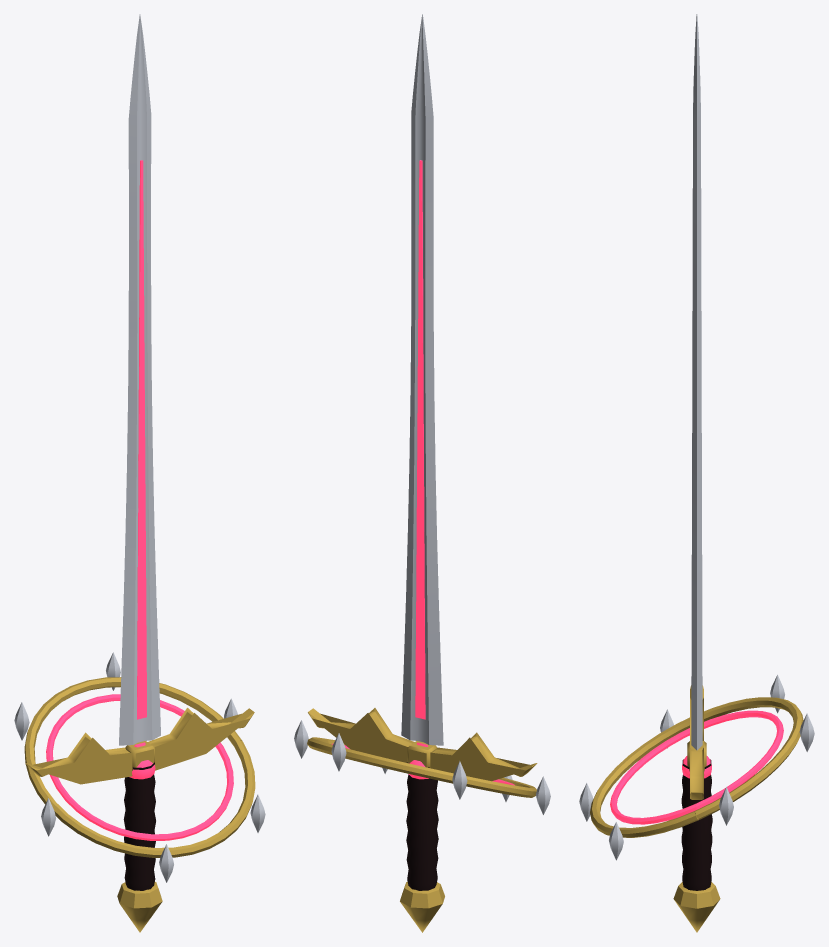
The model's file is esc_w_knight_sword_1.glb.
The picture shows the model from 3 angles, left to right: view 1: azimuth 30°, elevation 25°; view 2: azimuth 150°, elevation 25°; view 3: azimuth 270°, elevation 25°; orthographic projection.
Parts seen in each view (by area): view 1: esc_w_knight_sword_1; view 2: esc_w_knight_sword_1; view 3: esc_w_knight_sword_1.
Part boxes in pixels (box(x1,y1,x2,y2)): esc_w_knight_sword_1: box(14, 14, 265, 932); esc_w_knight_sword_1: box(294, 14, 550, 932); esc_w_knight_sword_1: box(579, 14, 814, 932).
Bounding box in the file's own units: 0.2987 × 1.16 × 0.2702.
